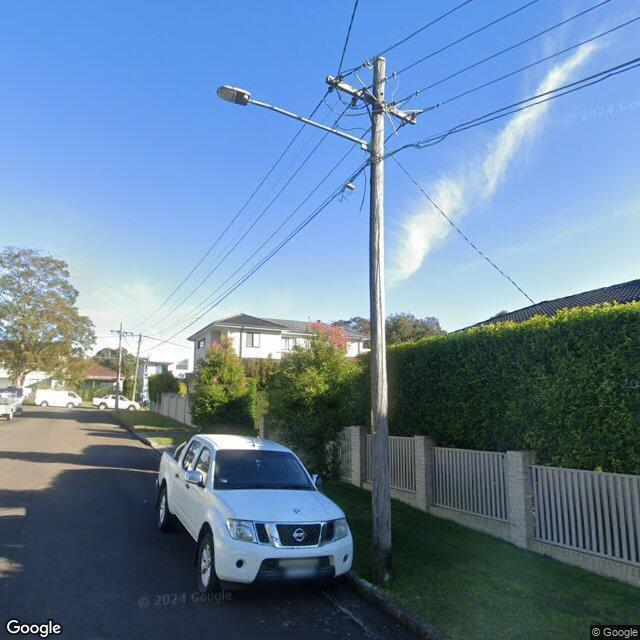crossarm: (326, 75, 416, 125), (109, 329, 133, 336)
streetlight: (215, 85, 377, 155)
timber-pole: (368, 56, 392, 584), (131, 333, 142, 402), (114, 322, 122, 412)
